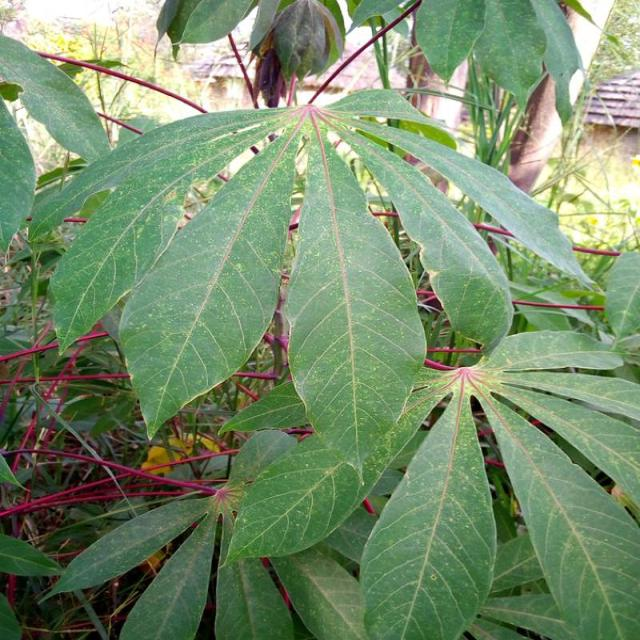cassava leaf: (116, 122, 301, 440), (282, 113, 428, 491), (358, 379, 498, 638)
